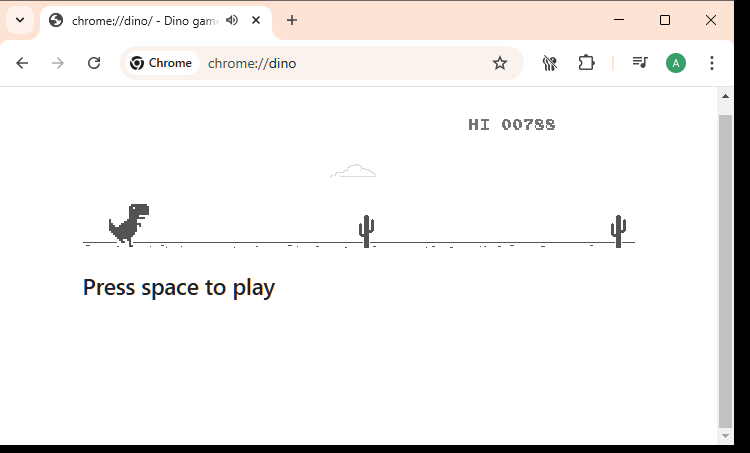cactus: (610, 213, 627, 249), (358, 214, 375, 249)
dino: (107, 203, 150, 248)
